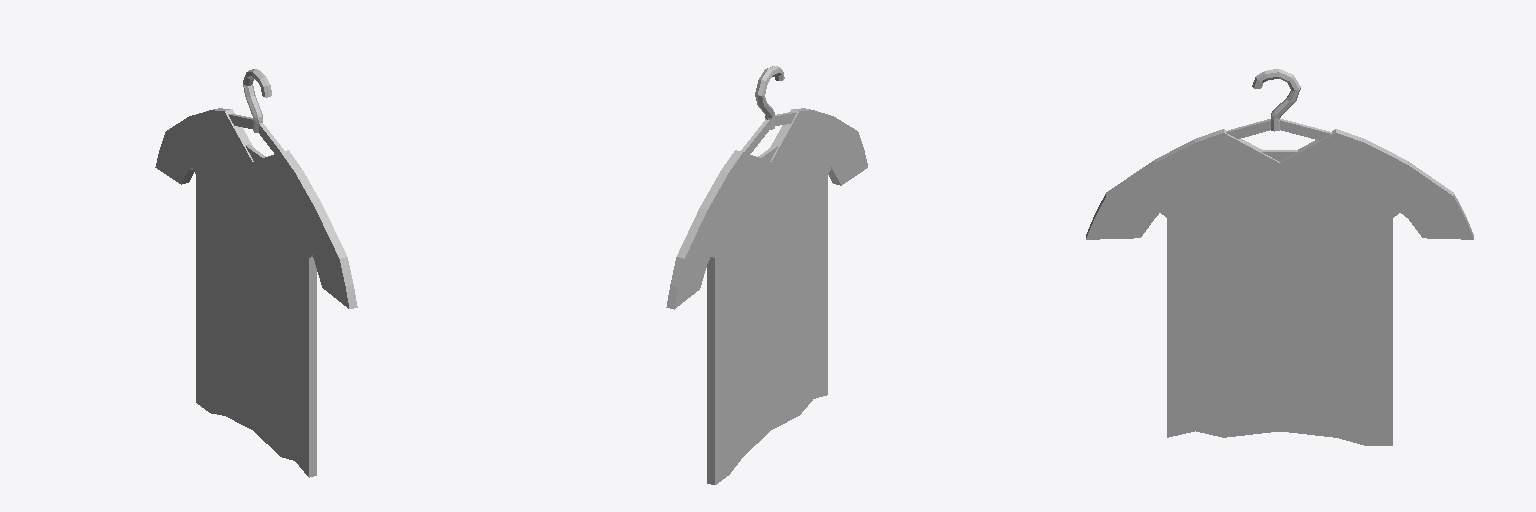
The model's file is clothUnfolded.obj.
3 renders of one model, left to right at view 1: azimuth 30°, elevation 25°; view 2: azimuth 150°, elevation 25°; view 3: azimuth 270°, elevation 25°, orthographic.
Parts seen in each view (by area): view 1: polySurface83 polySurface33, polySurface33 polySurface82; view 2: polySurface83 polySurface33, polySurface33 polySurface82; view 3: polySurface83 polySurface33, polySurface33 polySurface82.
Boxes of the visible parts, x1=… form: polySurface83 polySurface33: x1=155, y1=108, x2=357, y2=477; polySurface33 polySurface82: x1=228, y1=69, x2=283, y2=160; polySurface83 polySurface33: x1=666, y1=108, x2=867, y2=484; polySurface33 polySurface82: x1=741, y1=66, x2=796, y2=160; polySurface83 polySurface33: x1=1086, y1=129, x2=1473, y2=445; polySurface33 polySurface82: x1=1226, y1=69, x2=1331, y2=161.
Bounding box in the file's own units: 1.68 × 64.39 × 60.48.